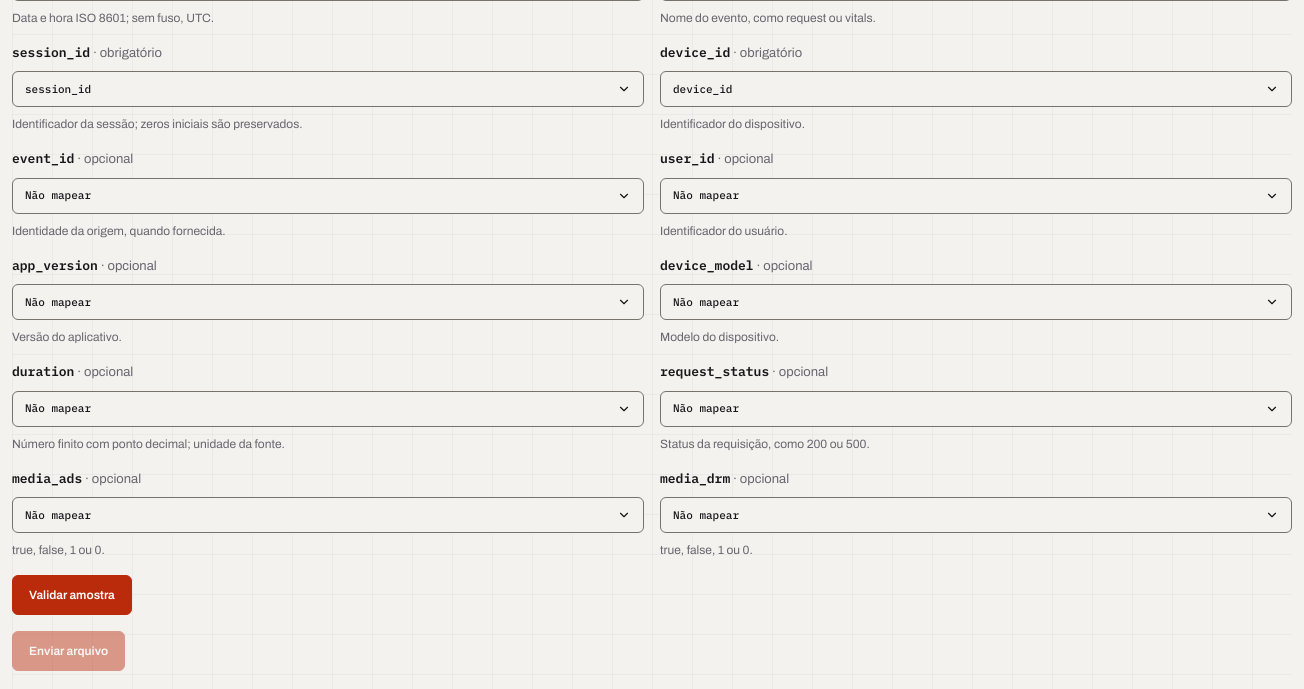
Test: formulário de mapeamento › limpar remove o resultado e expõe campos obrigatórios faltantes
(page scrolled)
Click the button "Validar amostra".
click(72, 595)  # box [12,575,132,615]
(page scrolled)
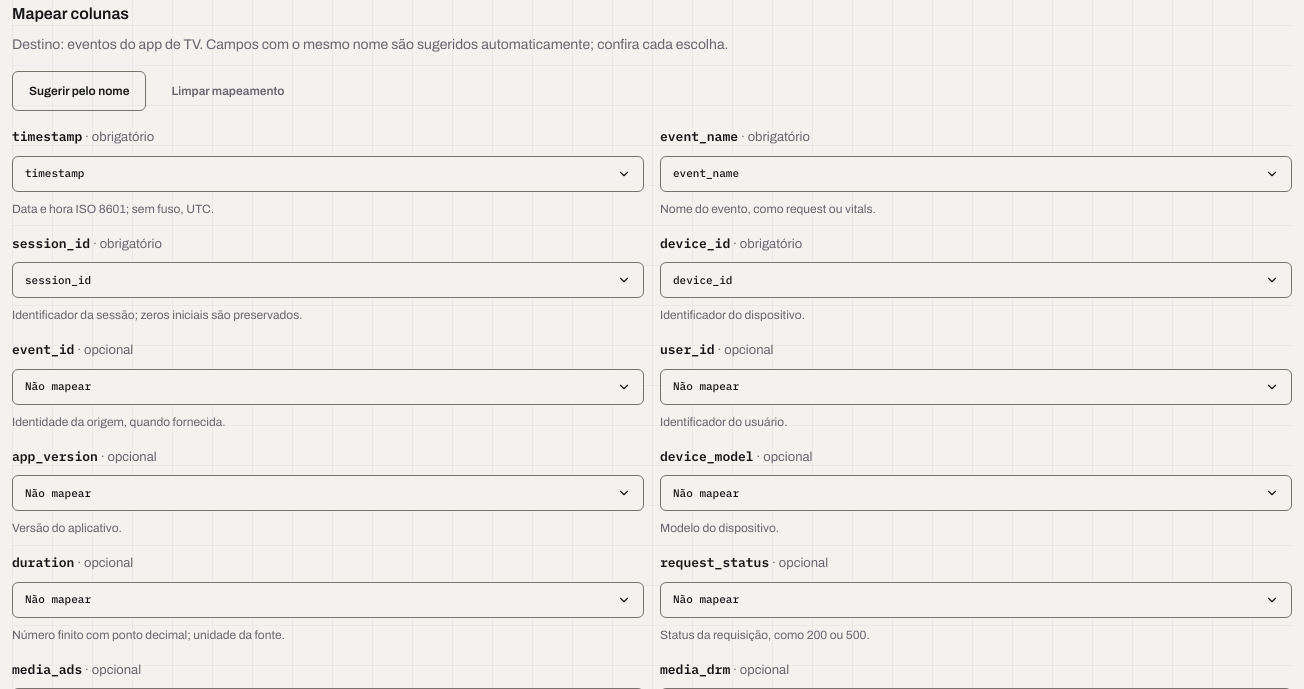
Click the button "Limpar mapeamento".
click(228, 91)  # box [154,71,301,111]
(page scrolled)
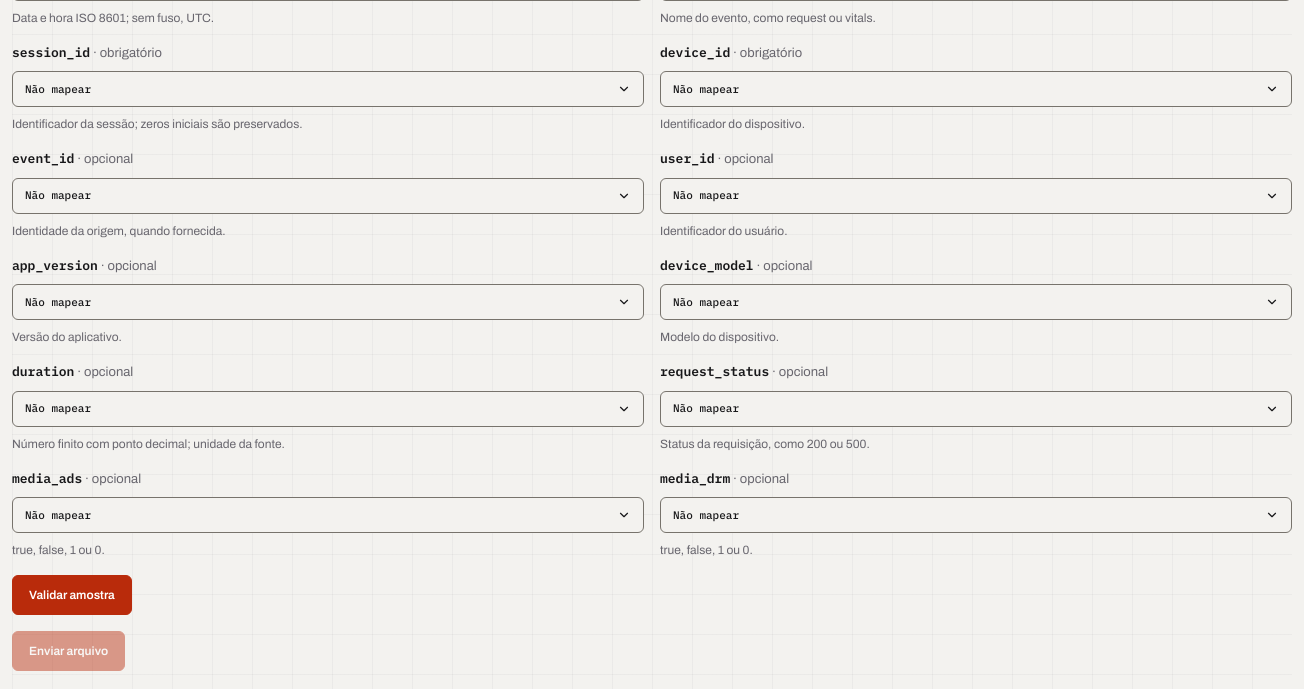
Click the button "Validar amostra".
click(72, 595)  # box [12,575,132,615]
(page scrolled)
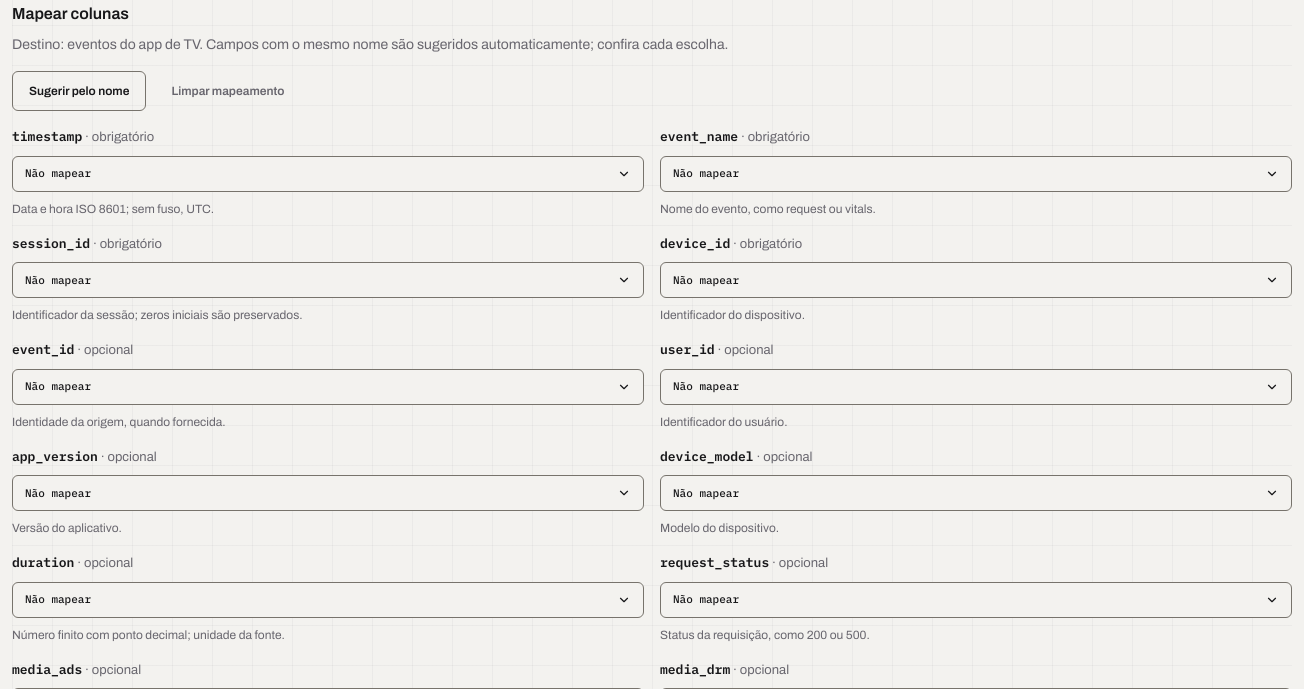
Click the button "Sugerir pelo nome".
click(79, 91)  # box [12,71,146,111]
(page scrolled)
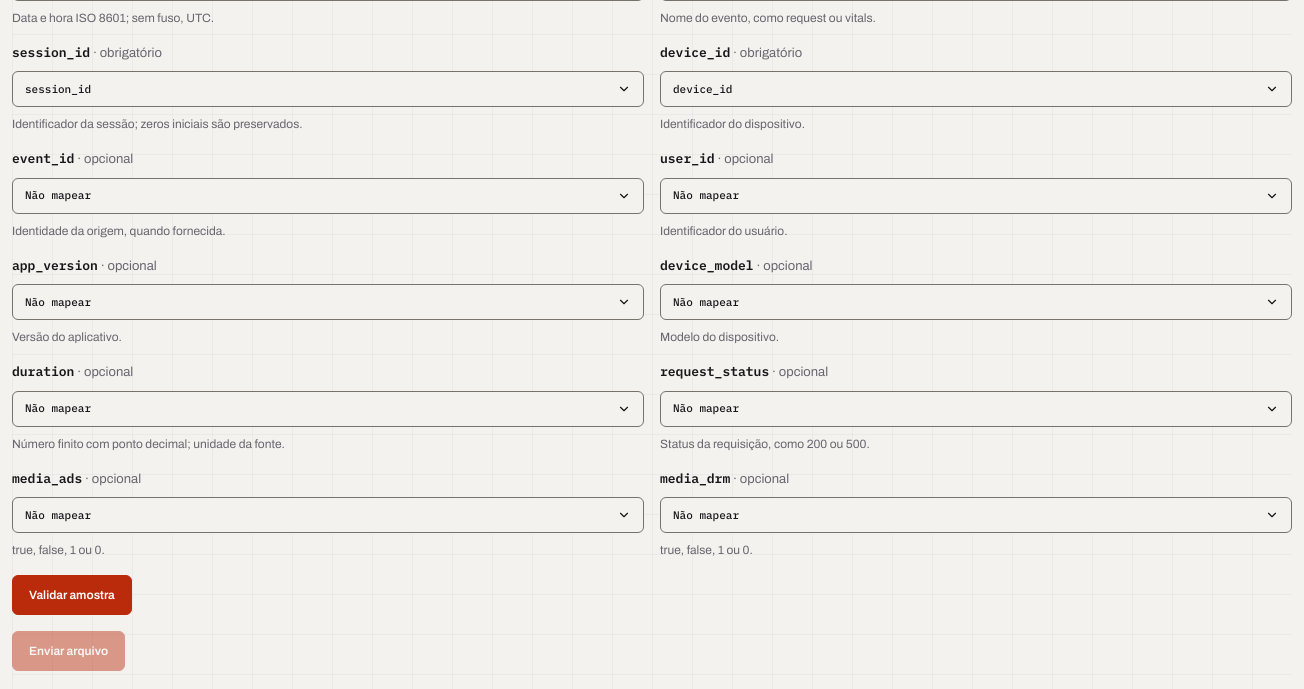
Click the button "Validar amostra".
click(72, 595)  # box [12,575,132,615]
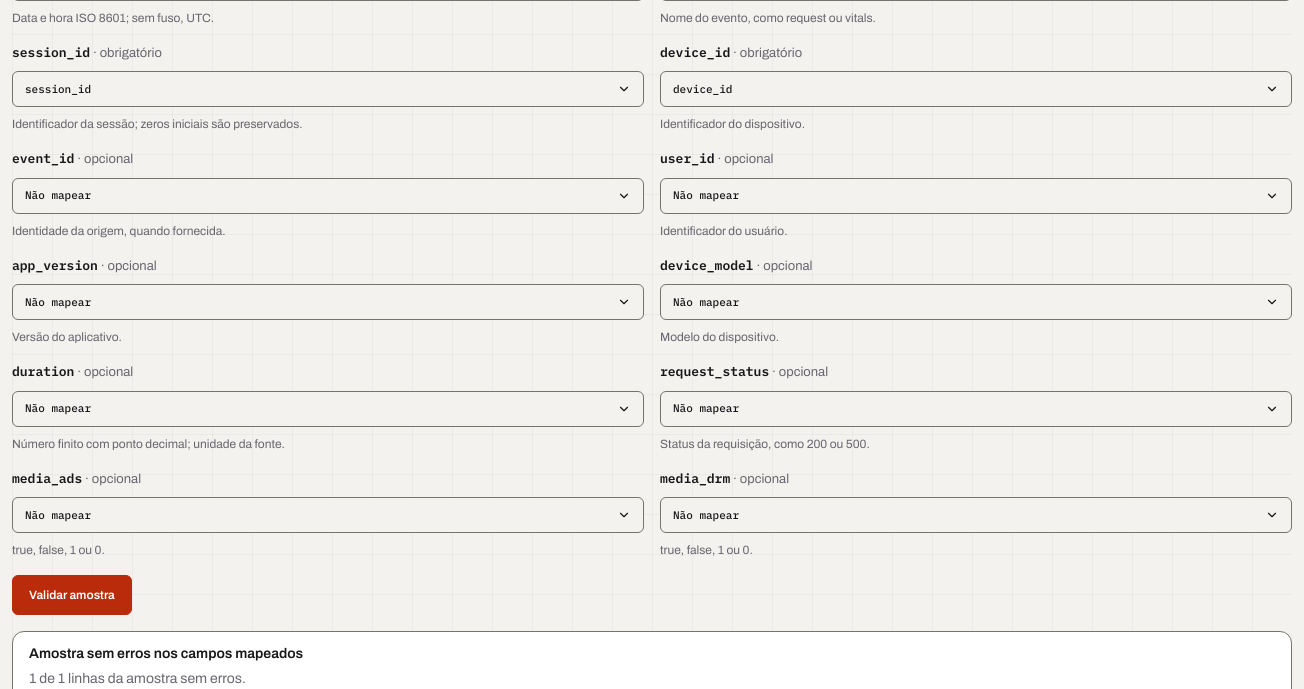
Now the message shows "Amostra sem erros", box [29,646,303,661]
